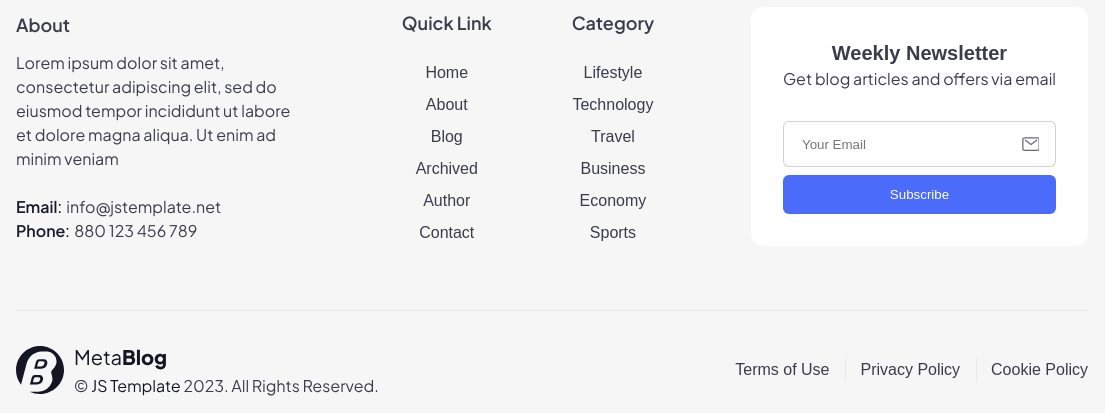
Test case: Footer component › should display an error message for an empty email
Click the button "Subscribe". click: (920, 194)
box: [783,175,1056,214]
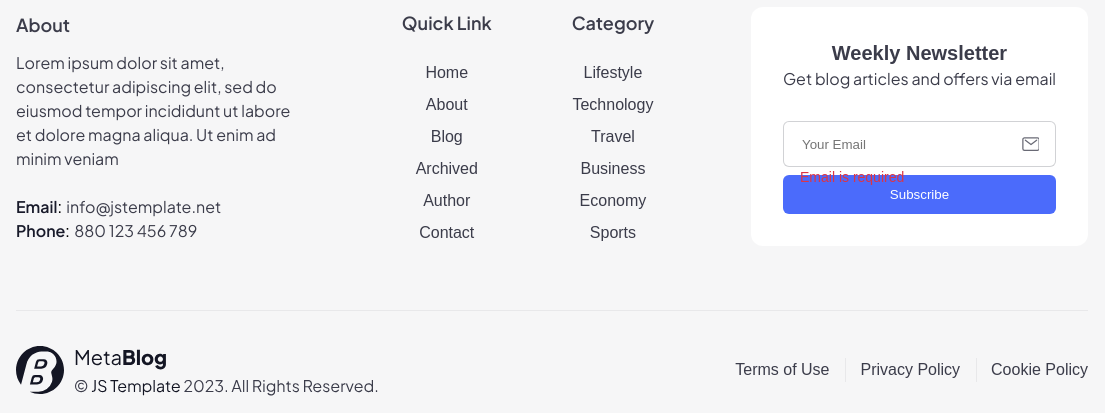
Expected: the text "Email is required" is shown, [800,170,904,184]
